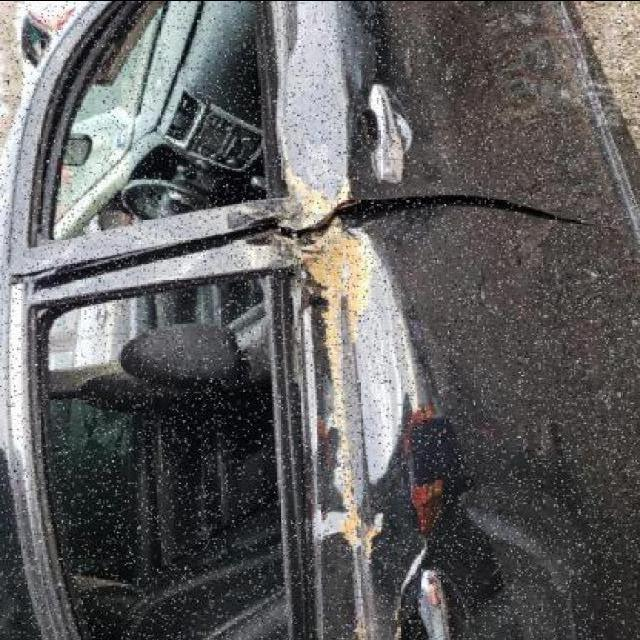doorouter-dent: (271, 222, 639, 640), (274, 0, 640, 227)
pillar-dent: (3, 196, 302, 312)
